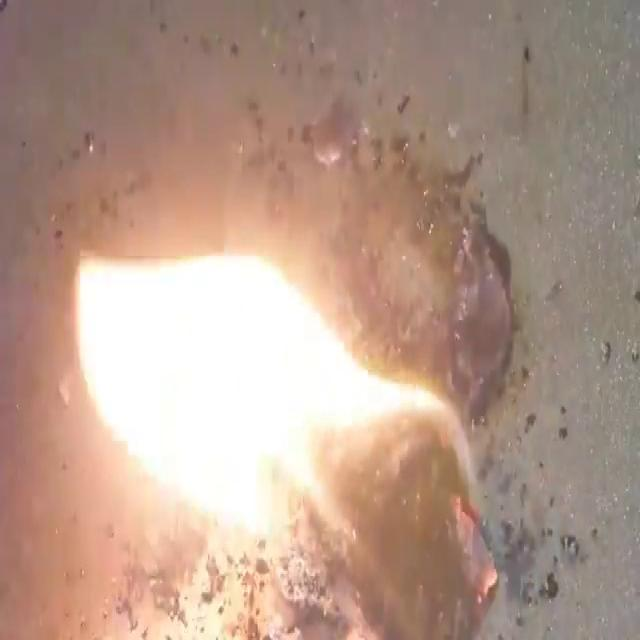Fire: (71, 243, 462, 548)
